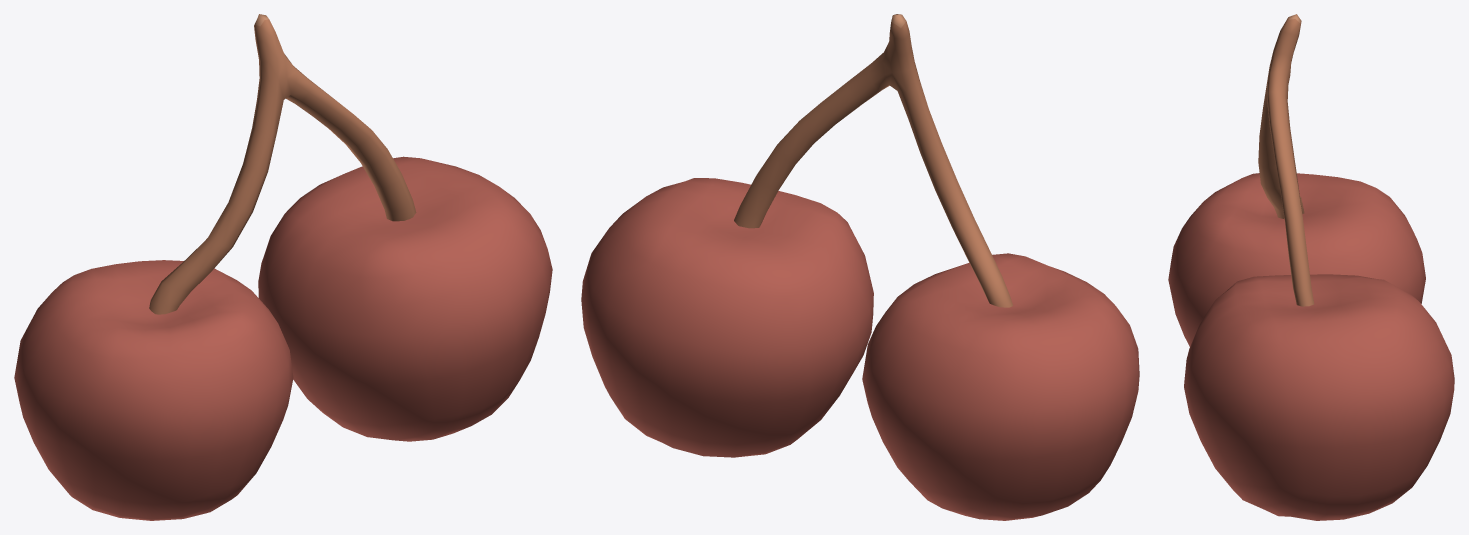
File: Cherry_02.dae
3 views of the same model, side by side, from view 1: azimuth 30°, elevation 25°; view 2: azimuth 150°, elevation 25°; view 3: azimuth 270°, elevation 25° (orthographic). The views are drawn at different scales.
Visible parts, largest first — view 1: Cherry_02_LOD0; view 2: Cherry_02_LOD0; view 3: Cherry_02_LOD0.
Part boxes in pixels (<box>): Cherry_02_LOD0: <box>14,14,552,520</box>; Cherry_02_LOD0: <box>581,14,1139,520</box>; Cherry_02_LOD0: <box>1168,14,1454,520</box>.
Size of what is drawn, in the model's own units: 5.39 by 2.83 by 4.59.
